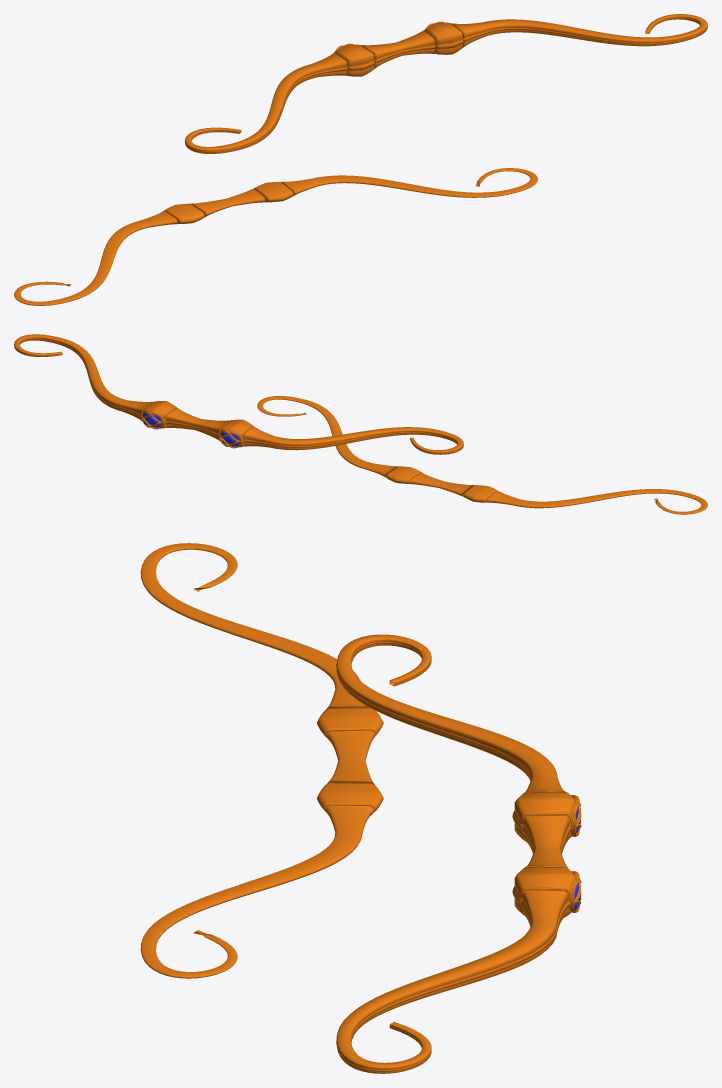
File: bow.fbx
3 views of the same model, one above another, from view 1: azimuth 30°, elevation 25°; view 2: azimuth 150°, elevation 25°; view 3: azimuth 270°, elevation 25° (orthographic). The views are drawn at different scales.
Parts seen in each view (by area): view 1: bow final, bow primitive, bow final.001; view 2: bow final, bow primitive, bow final.001, bow final.002, BezierCurve.001; view 3: bow final, bow primitive, bow final.001.
Boxes of the visible parts, left/top/right/bottom form: bow final: left=185, top=14, right=707, bottom=153; bow primitive: left=14, top=168, right=537, bottom=305; bow final.001: left=238, top=19, right=684, bottom=148; bow final: left=14, top=334, right=463, bottom=454; bow primitive: left=257, top=396, right=707, bottom=514; bow final.001: left=55, top=337, right=436, bottom=449; bow final.002: left=141, top=402, right=252, bottom=446; BezierCurve.001: left=141, top=411, right=241, bottom=448; bow final: left=336, top=634, right=576, bottom=1073; bow primitive: left=140, top=543, right=383, bottom=978; bow final.001: left=337, top=661, right=575, bottom=1039.
Size of the model in its own units: 650 by 58.66 by 194.
